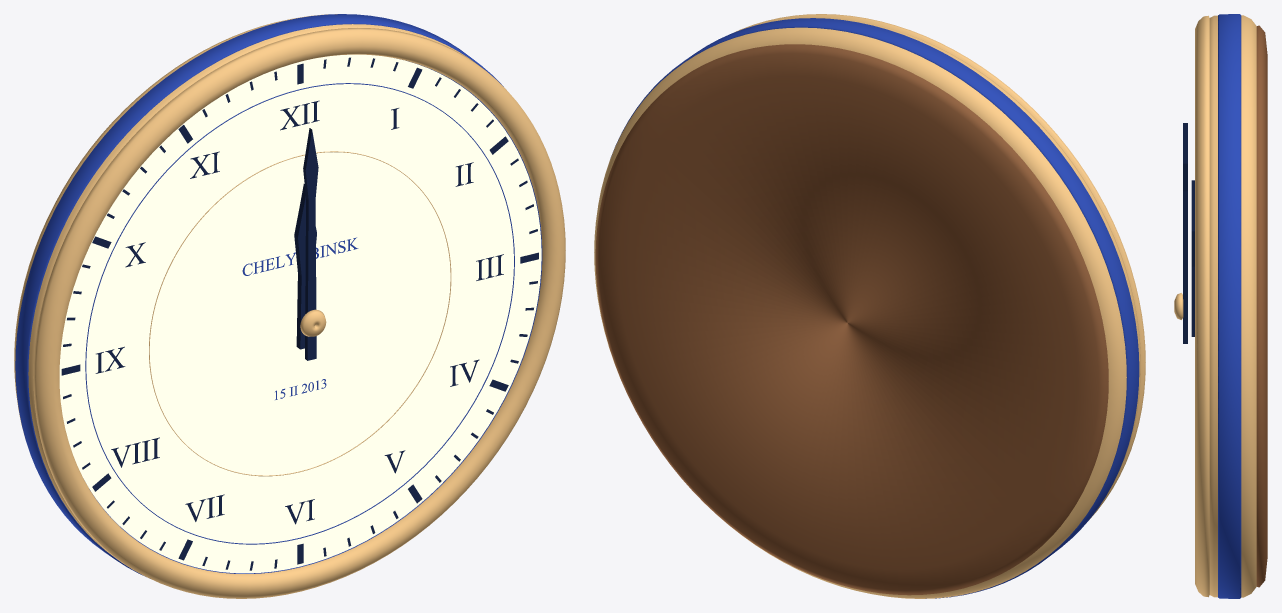
The model's file is central-clock.glb.
3 renders of one model, left to right at view 1: azimuth 30°, elevation 25°; view 2: azimuth 150°, elevation 25°; view 3: azimuth 270°, elevation 25°, orthographic. The views are drawn at different scales.
Visible parts, largest first — view 1: Clock case and dial, Minute hand, Hour hand; view 2: Clock case and dial; view 3: Clock case and dial, Minute hand, Hour hand.
Boxes of the visible parts, left/top/right/bottom form: Clock case and dial: left=14, top=14, right=565, bottom=598; Minute hand: left=303, top=128, right=318, bottom=360; Hour hand: left=294, top=184, right=316, bottom=349; Clock case and dial: left=594, top=14, right=1145, bottom=598; Clock case and dial: left=1174, top=14, right=1267, bottom=598; Minute hand: left=1183, top=123, right=1187, bottom=343; Hour hand: left=1191, top=180, right=1194, bottom=336.
Bounding box in the file's own units: 2 × 2 × 0.318.
